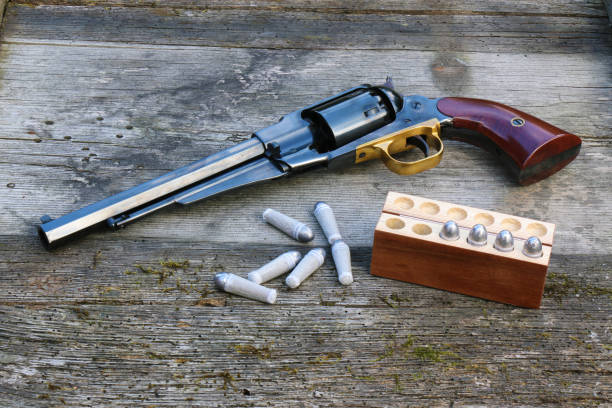gun: (36, 77, 584, 248)
